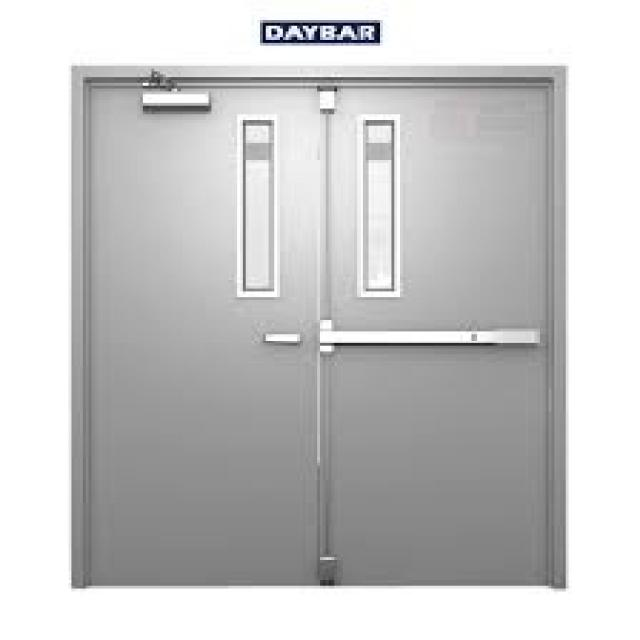door: (74, 69, 566, 588)
